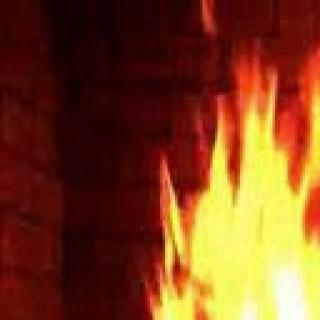fire: (149, 20, 320, 320)
